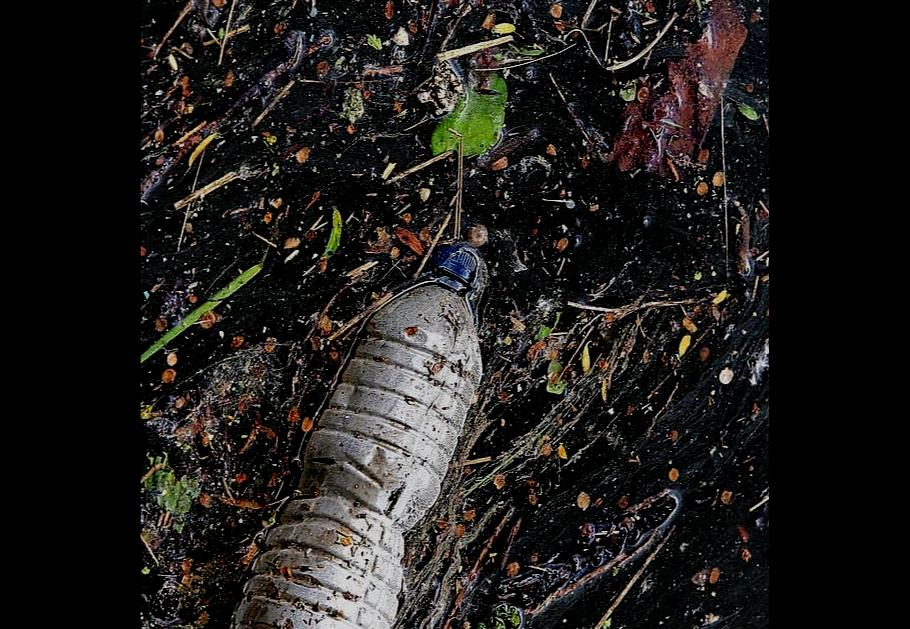bottle: (216, 231, 513, 629)
